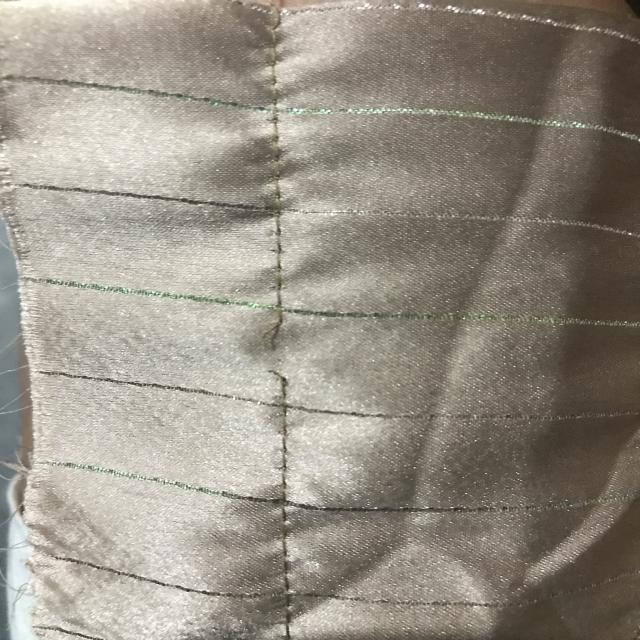broken: (256, 308, 313, 404)
good: (264, 443, 304, 565)
